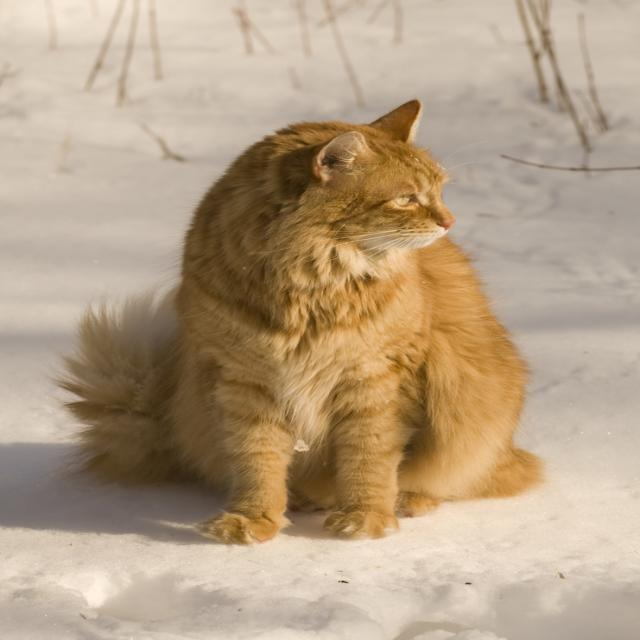Cat: (41, 97, 546, 544)
